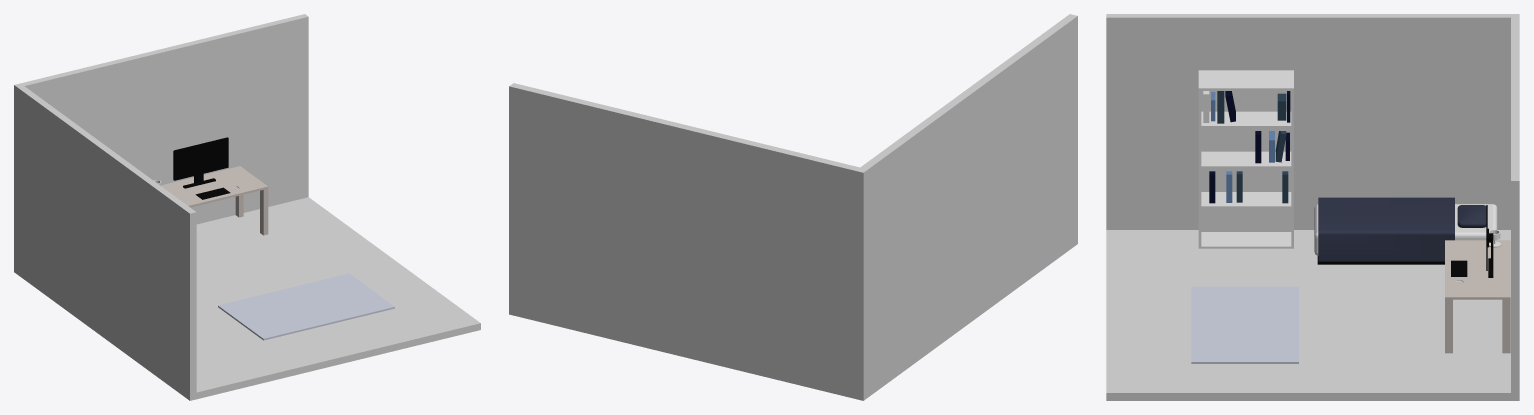
Rendered from MyRoom.glb.
3 renders of one model, left to right at view 1: azimuth 30°, elevation 25°; view 2: azimuth 150°, elevation 25°; view 3: azimuth 270°, elevation 25°, orthographic. The views are drawn at different scales.
Parts seen in each view (by area): view 1: Room, Cube.004, Desk, Monitor; view 2: Room; view 3: Room, Book case, Cube, Cube.004, Desk, Cube.001, Cube.002, Cube.003, Monitor.
Part boxes in pixels (bbox=[...]): Room: bbox=[14, 14, 480, 400]; Cube.004: bbox=[218, 273, 394, 340]; Desk: bbox=[161, 166, 268, 235]; Monitor: bbox=[173, 137, 228, 188]; Room: bbox=[509, 14, 1077, 400]; Room: bbox=[1106, 14, 1519, 400]; Book case: bbox=[1198, 70, 1293, 248]; Cube: bbox=[1318, 197, 1454, 261]; Cube.004: bbox=[1191, 286, 1298, 363]; Desk: bbox=[1445, 240, 1510, 353]; Cube.001: bbox=[1314, 204, 1497, 255]; Cube.002: bbox=[1457, 205, 1486, 227]; Cube.003: bbox=[1317, 256, 1444, 264]; Monitor: bbox=[1486, 205, 1493, 277].
Size of the model in its own units: 4.46 by 2.74 by 4.67.
